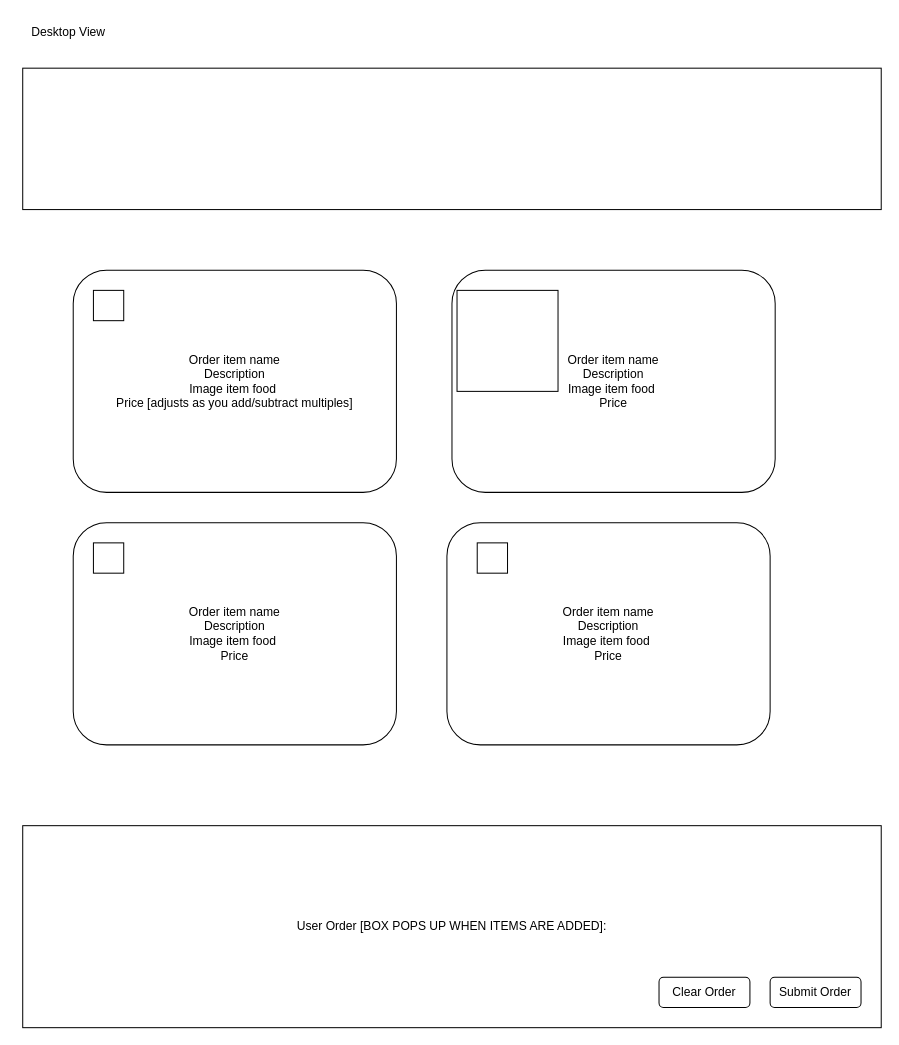
Some shapes in this 899 by 1045 pixel diagram are drawn without their labels. Each missing label, with the centre of its shape:
Add: (x=108, y=305)
ADD/SUBTRACT depending on design: (x=507, y=340)
Nav bar: (x=451, y=138)
